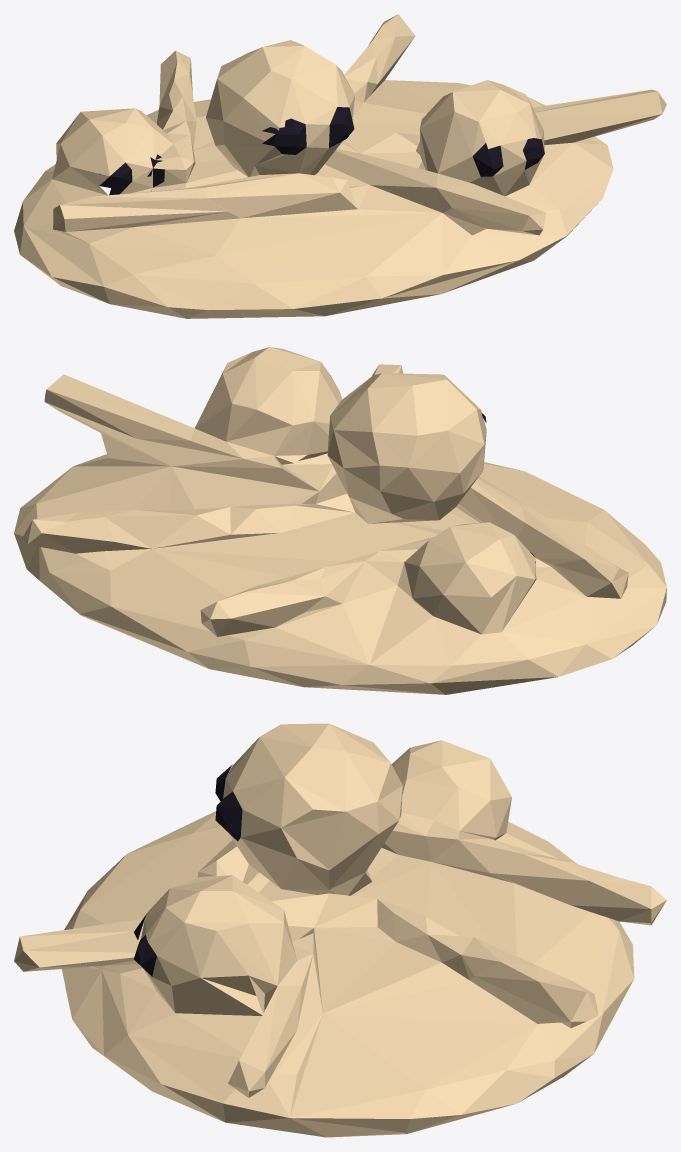
The model's file is bone_pile.glb.
3 renders of one model, top to bottom at view 1: azimuth 30°, elevation 25°; view 2: azimuth 150°, elevation 25°; view 3: azimuth 270°, elevation 25°, orthographic. The views are drawn at different scales.
Visible parts, largest first — view 1: bone_pile; view 2: bone_pile; view 3: bone_pile.
Part boxes in pixels (x1,y1,x2,y2): bone_pile: (14, 14, 666, 318); bone_pile: (14, 347, 666, 694); bone_pile: (14, 723, 666, 1137).
Bounding box in the file's own units: 1.27 × 0.4531 × 1.01.
